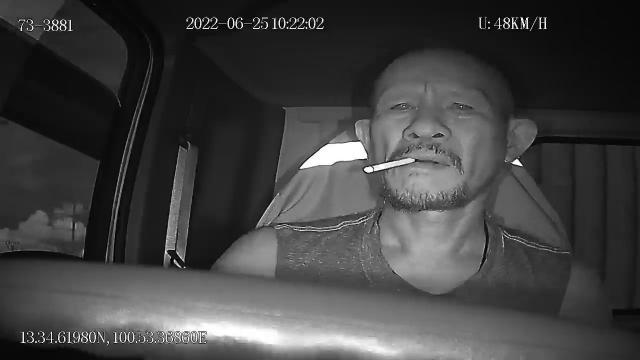SafeDriving: (439, 92, 484, 122), (382, 92, 422, 120)
Smoking: (364, 156, 414, 174)
